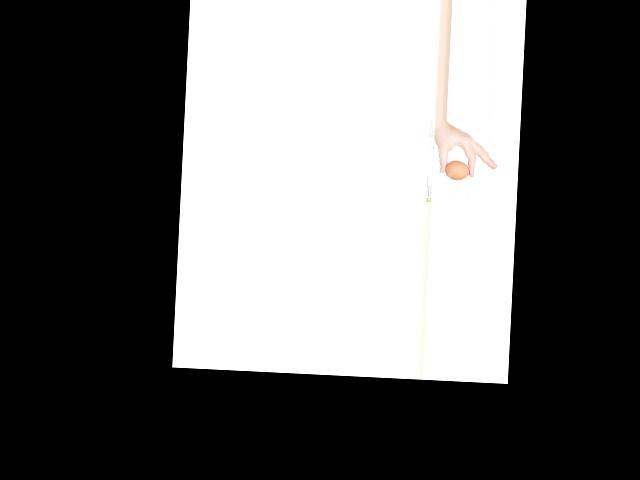egg: (443, 159, 469, 180)
